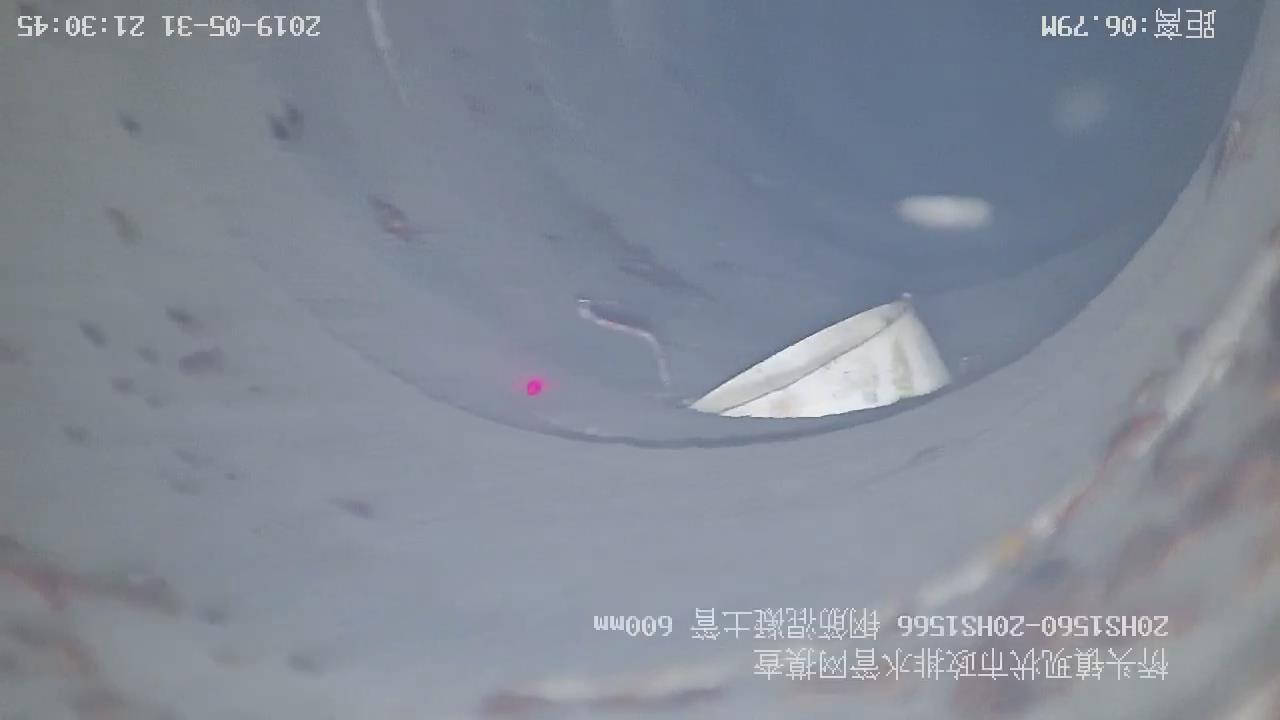ZGAJ: (690, 301, 950, 418)
